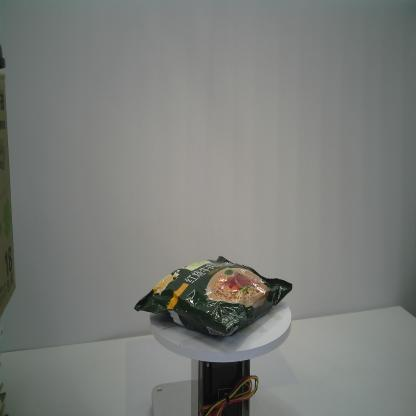Instant Noodles: (132, 253, 294, 339)
